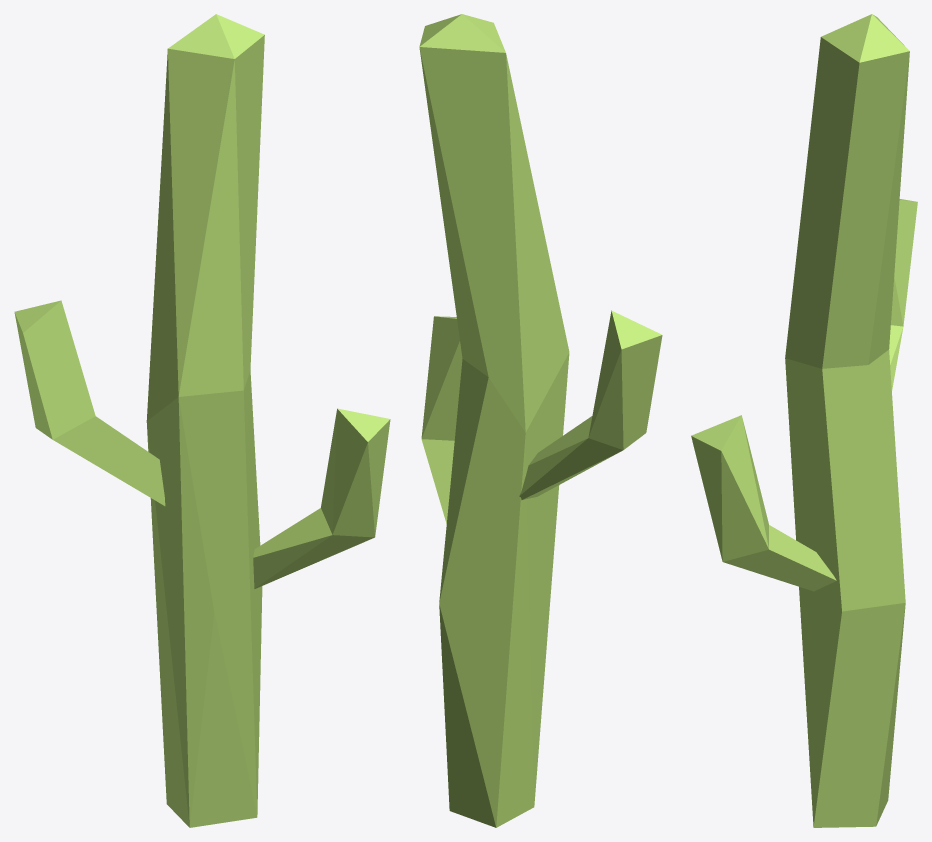
Rendered from Cactus_b_m_05.fbx.
3 views of the same model, side by side, from view 1: azimuth 30°, elevation 25°; view 2: azimuth 150°, elevation 25°; view 3: azimuth 270°, elevation 25° (orthographic). The views are drawn at different scales.
Visible parts, largest first — view 1: Cactus_b_m_05; view 2: Cactus_b_m_05; view 3: Cactus_b_m_05.
Boxes of the visible parts, box(x1,y1,x2,y2) form: Cactus_b_m_05: box(14, 14, 390, 827); Cactus_b_m_05: box(419, 14, 662, 827); Cactus_b_m_05: box(691, 14, 917, 827).
Size of the model in its own units: 109 by 276 by 70.32.
